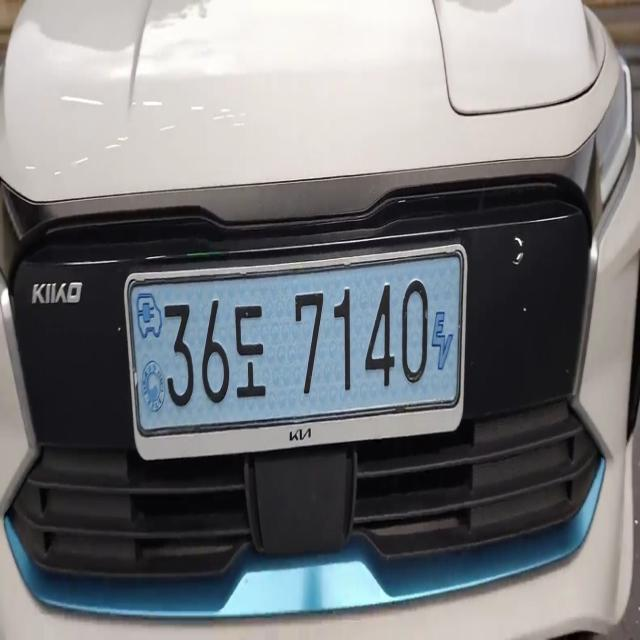car: (122, 240, 474, 447)
carev: (130, 280, 165, 437), (424, 275, 462, 398)
